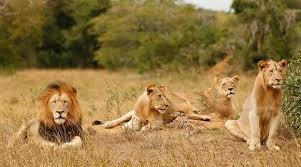lion: (223, 56, 293, 156), (102, 79, 207, 138), (13, 78, 87, 155), (195, 70, 243, 126)
